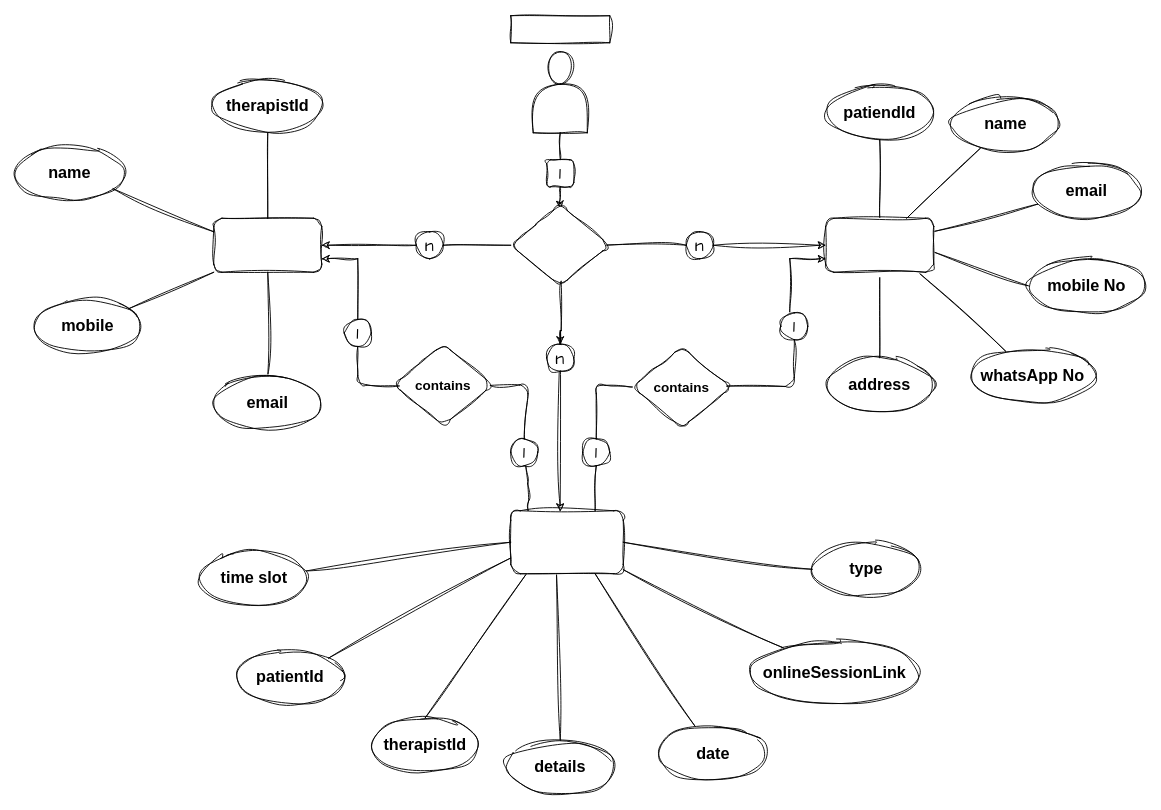
The diagram is 1161 pixels wide and 810 high, and some of its shapes have lost their labels. The shapes that lost their labels are listed below. From the top down, each one's centre as x and y in pixels, then its label:
(560,29): ADMIN
(267,244): Therapist
(560,245): creates
(879,244): Patient
(566,542): Sessions
